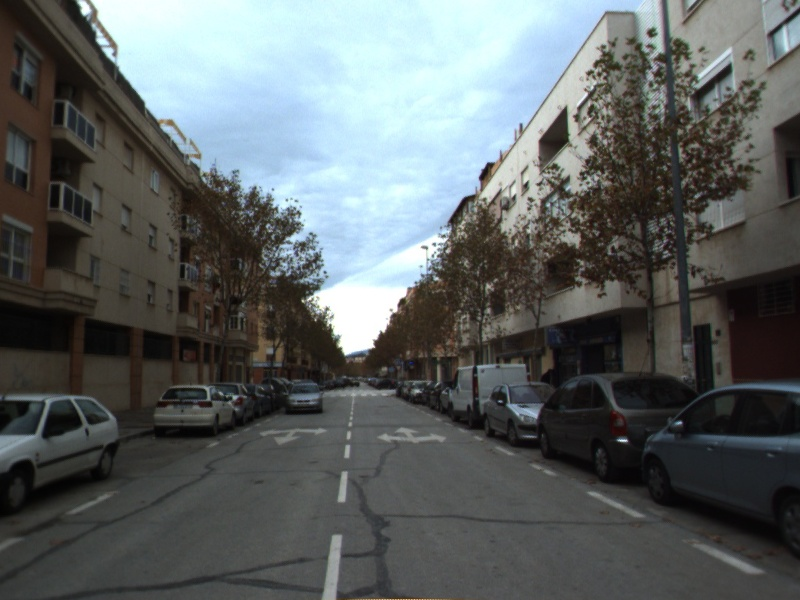STRAIGHT_LEFT_RIGHT: (375, 425, 449, 445)
